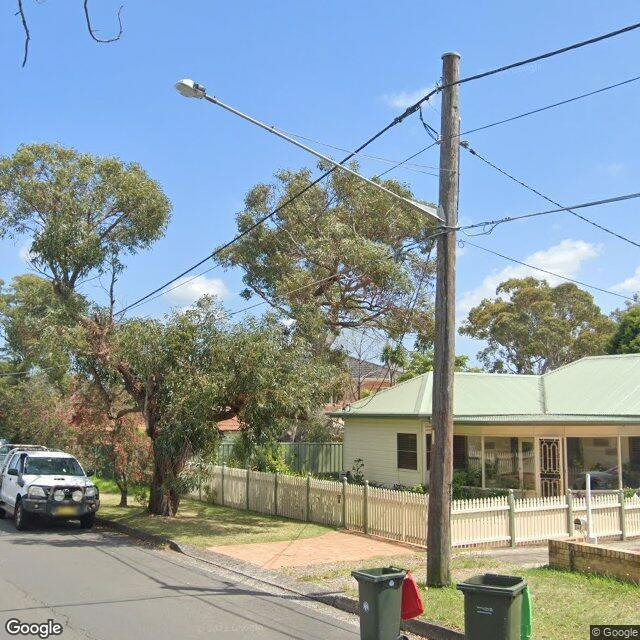streetlight: (178, 79, 442, 224)
timber-pole: (427, 52, 460, 589)
